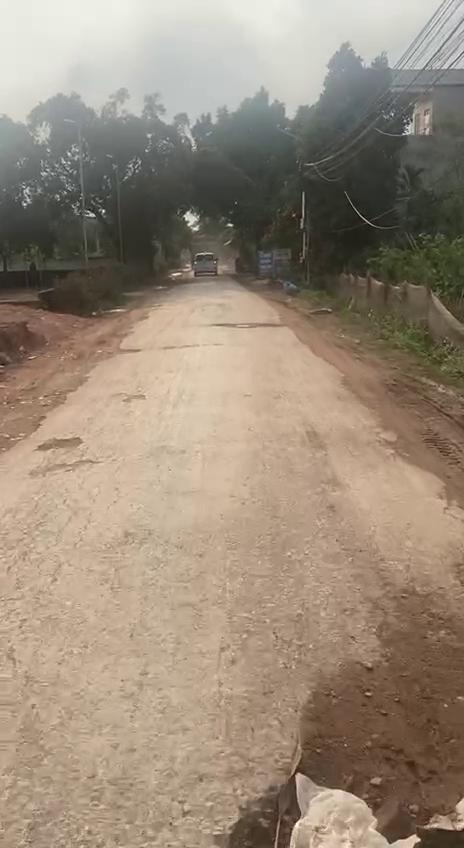pothole: (219, 652, 464, 848)
